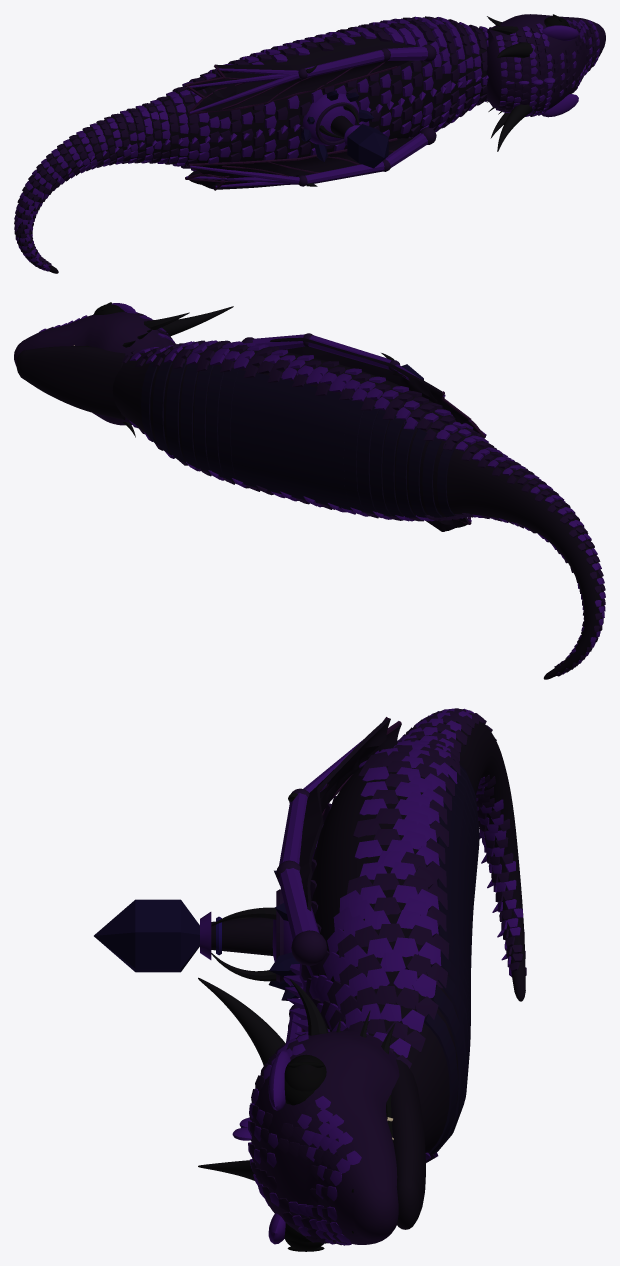
3 views of the same model, one above another, from view 1: azimuth 30°, elevation 25°; view 2: azimuth 150°, elevation 25°; view 3: azimuth 270°, elevation 25° (orthographic). The views are drawn at different scales.
Visible parts, largest first — view 1: base; view 2: base; view 3: base.
Boxes of the visible parts, x1,y1,x2,y2 form: base: [14, 14, 605, 273]; base: [14, 302, 605, 679]; base: [94, 708, 526, 1251].
Size of the model in its own units: 0.6762 by 0.2353 by 0.2274.
